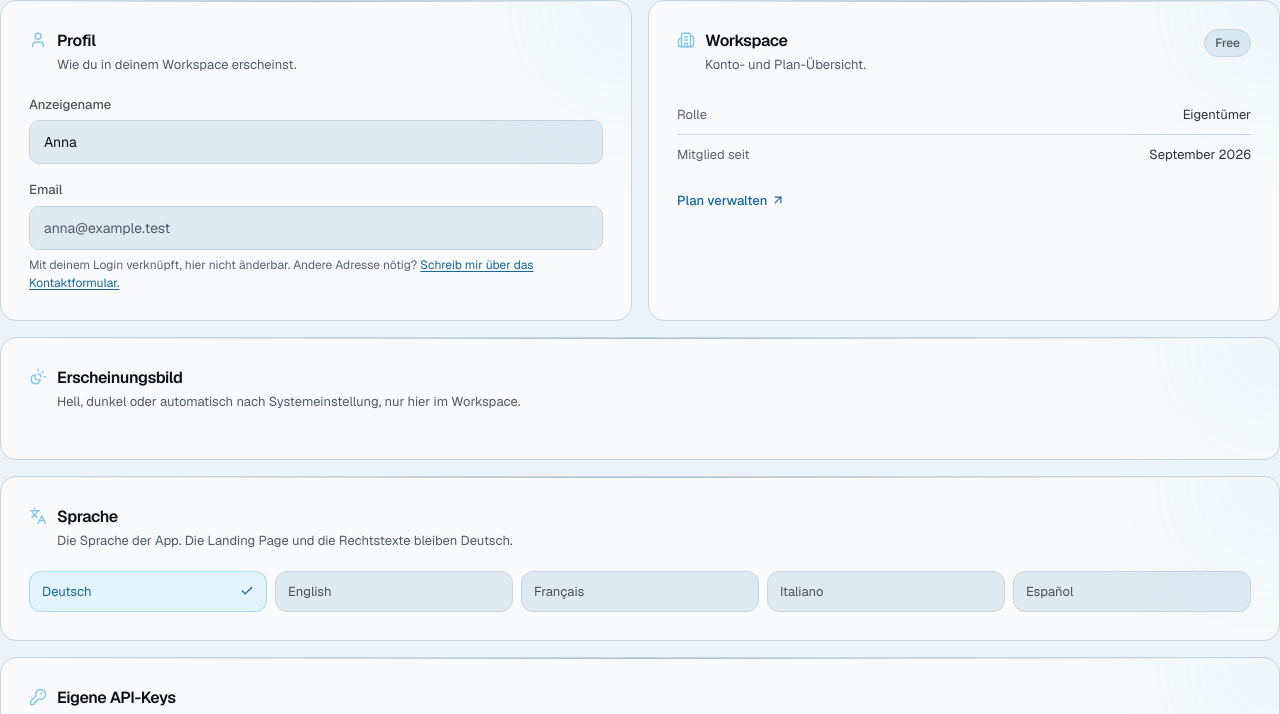
Speicherleiste › fehlt, solange nichts geändert ist, und erscheint, sobald der Name sich ändert
Expected: the text "Ungespeicherte Änderungen" is not shown
Type "x" into the field named "Anzeigename" at (316, 142), box [29, 120, 603, 164]
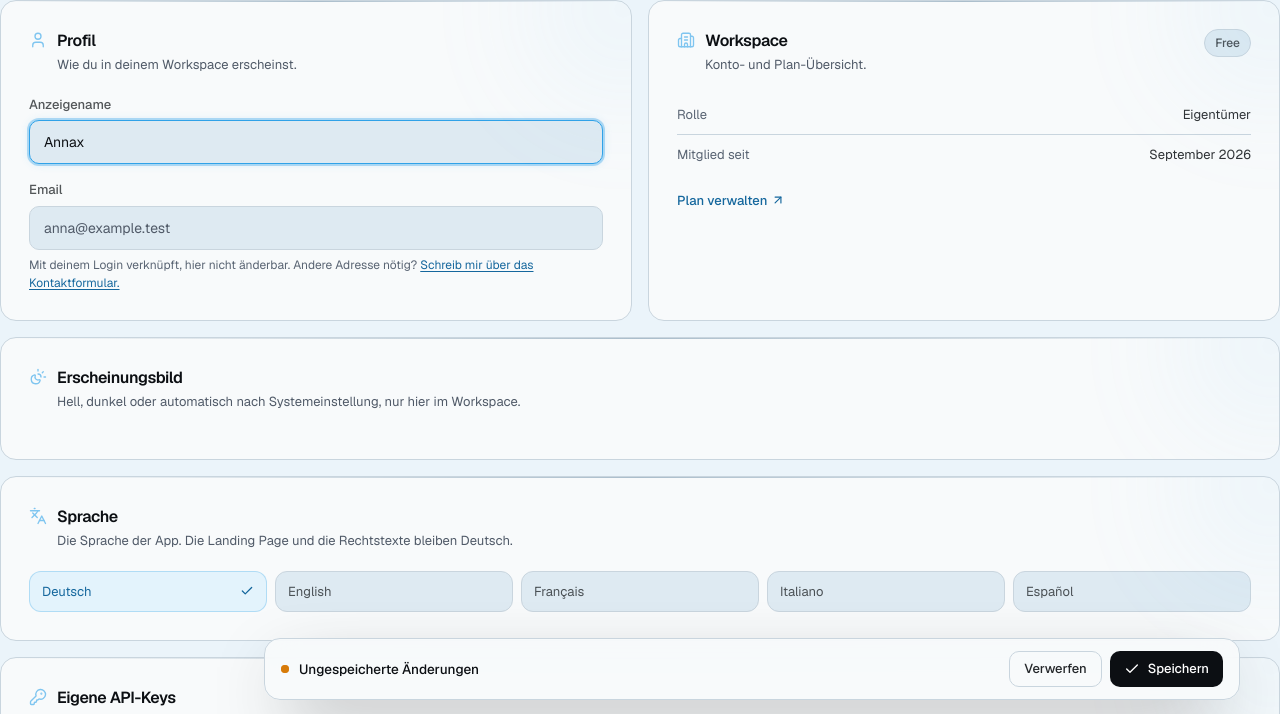
Now the text "Ungespeicherte Änderungen" is shown, box [299, 659, 479, 679]
Now the button "Speichern" is enabled, box [1110, 651, 1223, 687]
Now the button "Verwerfen" is enabled, box [1009, 651, 1102, 687]
